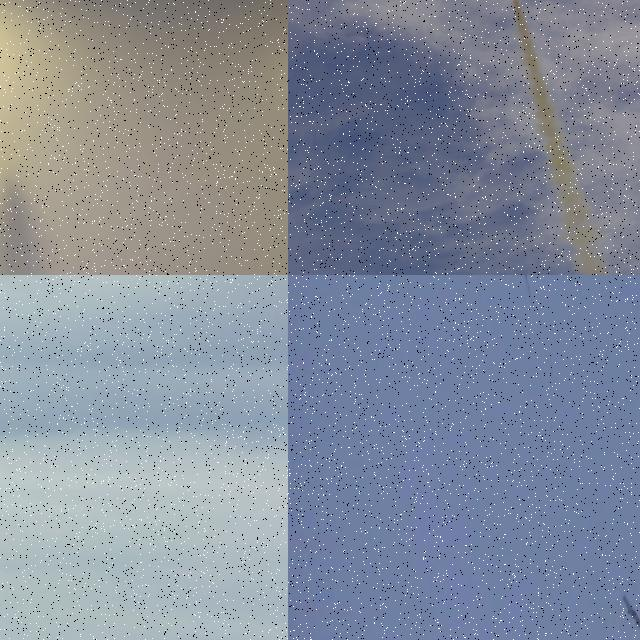Rocket: (619, 586, 640, 640)
